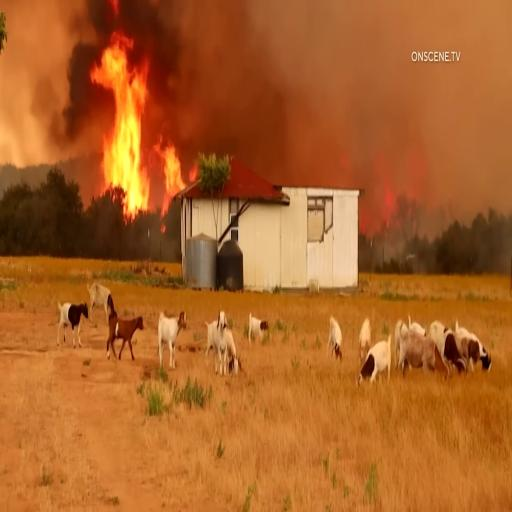fire: (81, 17, 183, 224)
